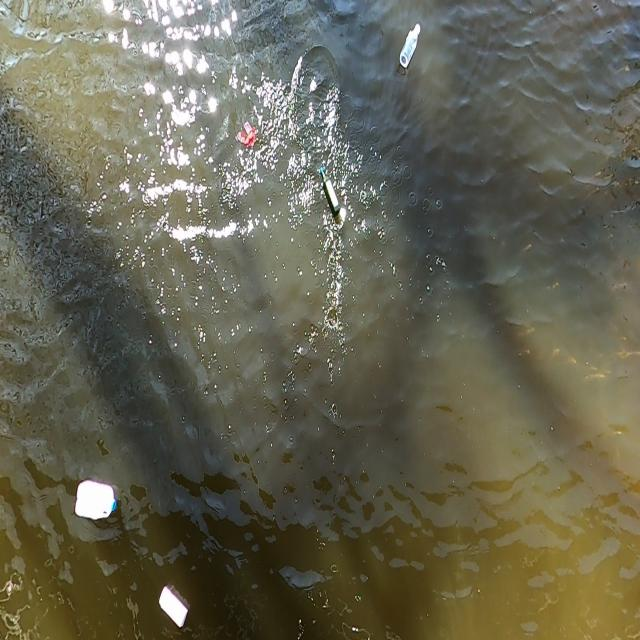Autre plastique: (74, 481, 120, 527), (158, 581, 189, 633)
Bouteille plastique: (316, 163, 339, 223), (395, 23, 422, 71)
